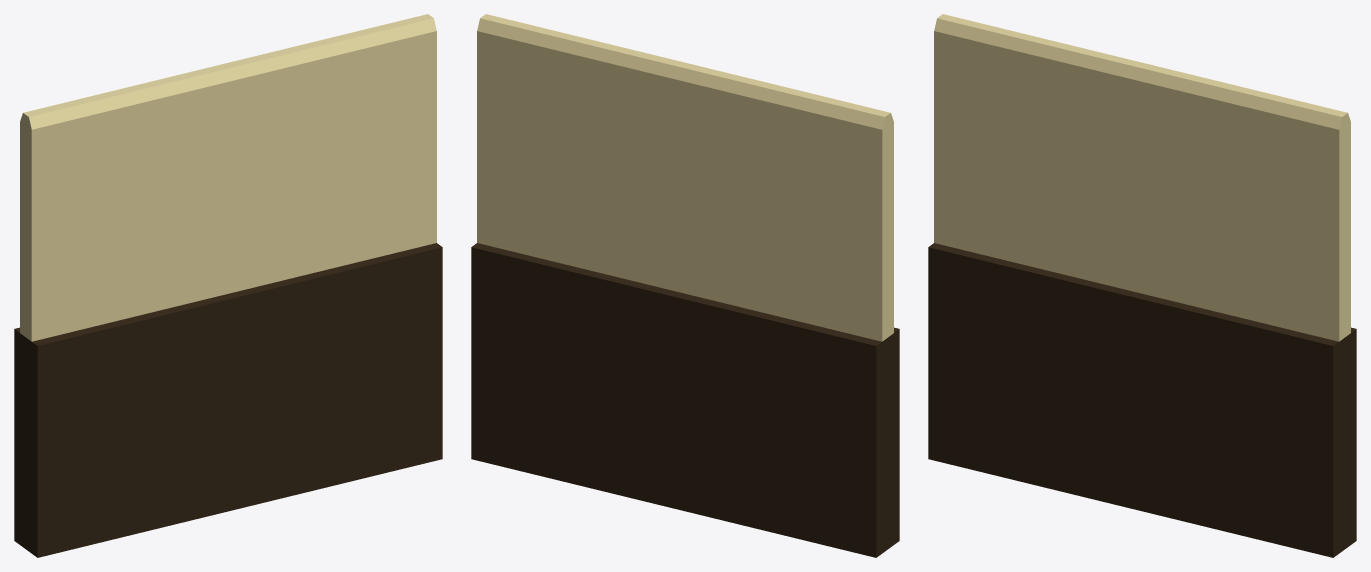
The model's file is Wall.fbx.
3 renders of one model, left to right at view 1: azimuth 30°, elevation 25°; view 2: azimuth 150°, elevation 25°; view 3: azimuth 330°, elevation 25°, orthographic.
Parts seen in each view (by area): view 1: Wall; view 2: Wall; view 3: Wall.
Boxes of the visible parts, x1,y1,x2,y2 form: Wall: (14,14,442,557); Wall: (471,14,899,557); Wall: (928,14,1356,557).
Bounding box in the file's own units: 200 × 205 × 20.
